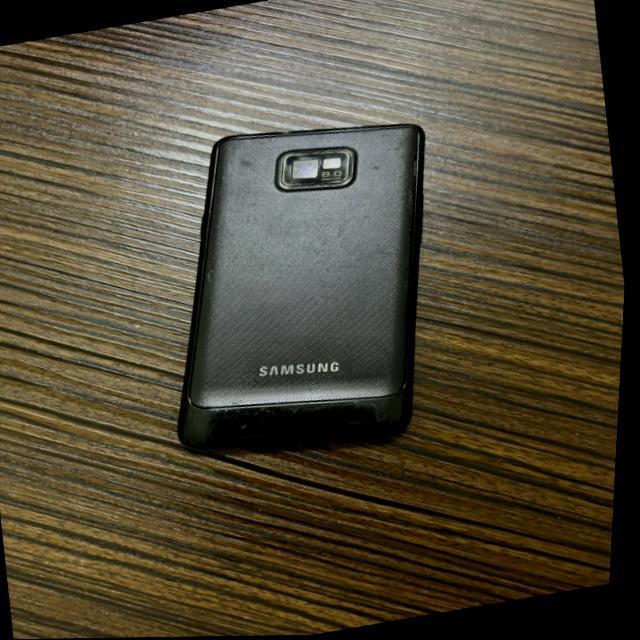Smartphone: (183, 125, 425, 447)
